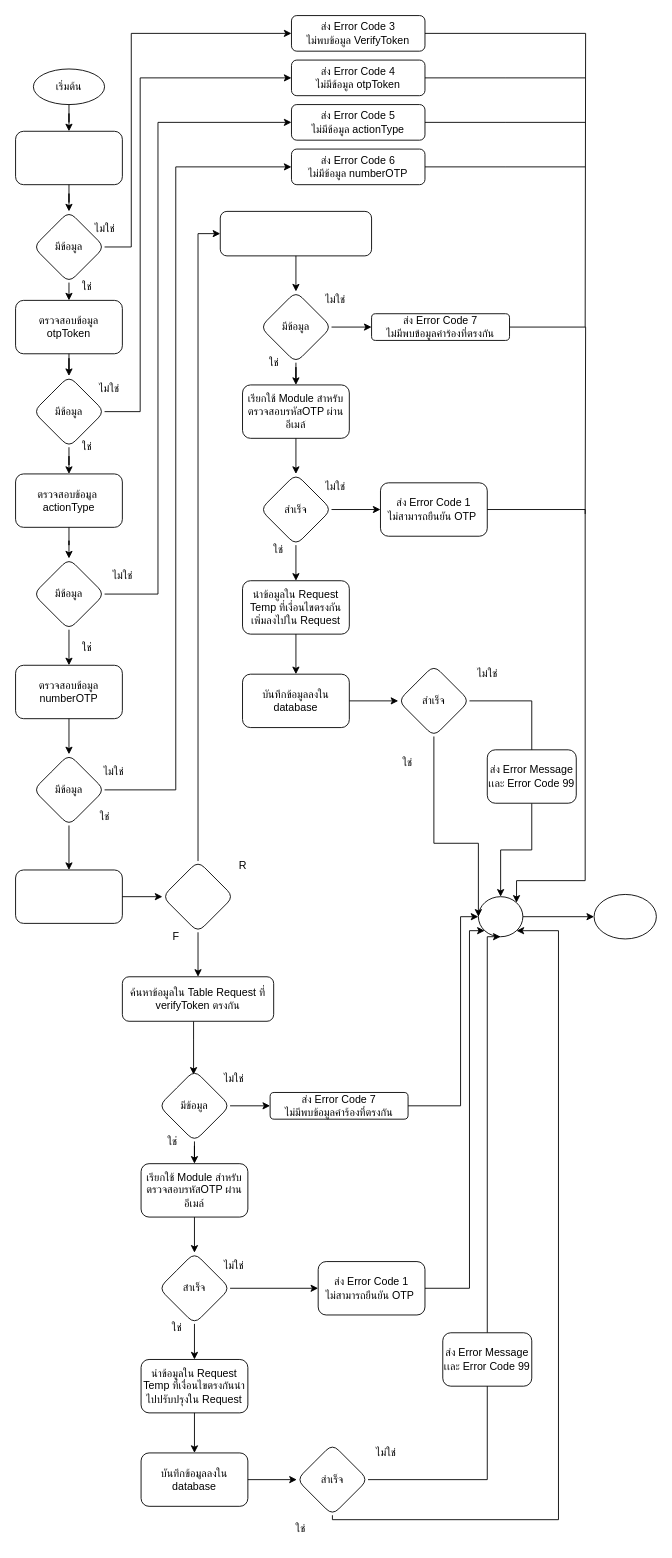
Image size: 672x1558. Some labels were removed from this diagram. The box of each missing label's shape, as (x1, y1, x2, y2) in pixels:
ค้นหาข้อมูลใน Table Request Temp ที่ verifyToken ตรงกัน: (219, 210, 372, 256)
ตรวจสอบข้อมูล VerifyToken: (15, 130, 122, 185)
ตรวจสอบสถานะ actionType: (15, 869, 122, 923)
ประเภท: (162, 860, 234, 932)
สิ้นสุด: (593, 894, 656, 939)
